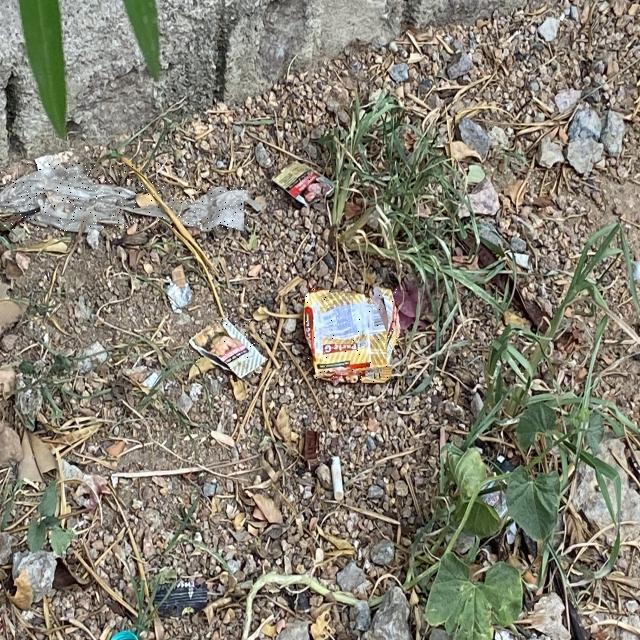paper: (190, 319, 264, 378), (272, 161, 333, 205)
plastic: (0, 162, 166, 231), (171, 188, 249, 229)
wrapper: (304, 288, 400, 383)
